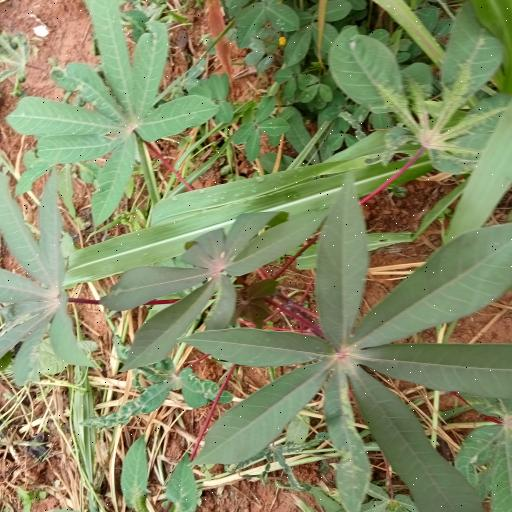Cassava_Mosaic: (199, 210, 512, 512), (16, 0, 212, 217), (350, 12, 512, 198), (0, 200, 84, 403)
